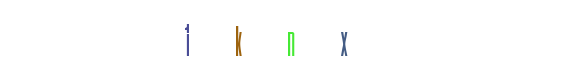1: (198, 0, 278, 80)
K: (236, 0, 316, 80)
N: (250, 0, 330, 80)
X: (250, 0, 330, 80)
